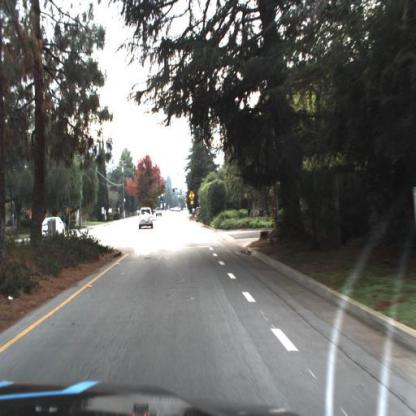car: (40, 213, 65, 243), (137, 207, 157, 234)
